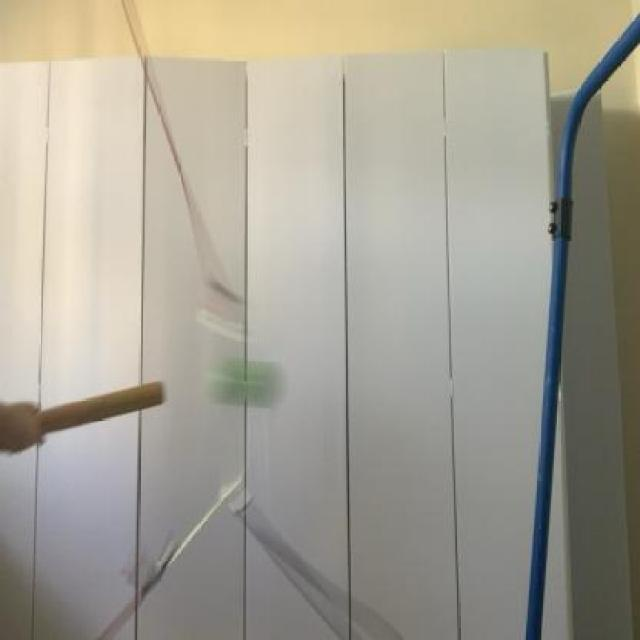baseball: (205, 347, 286, 405)
